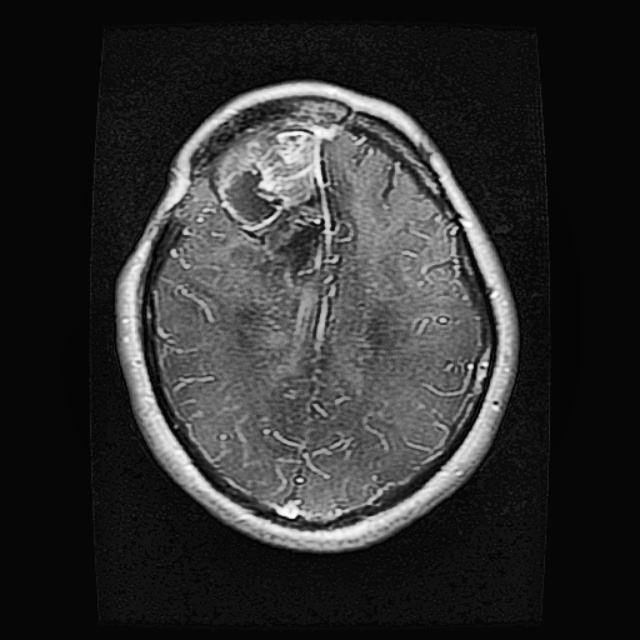Meningioma: (209, 117, 355, 270)
